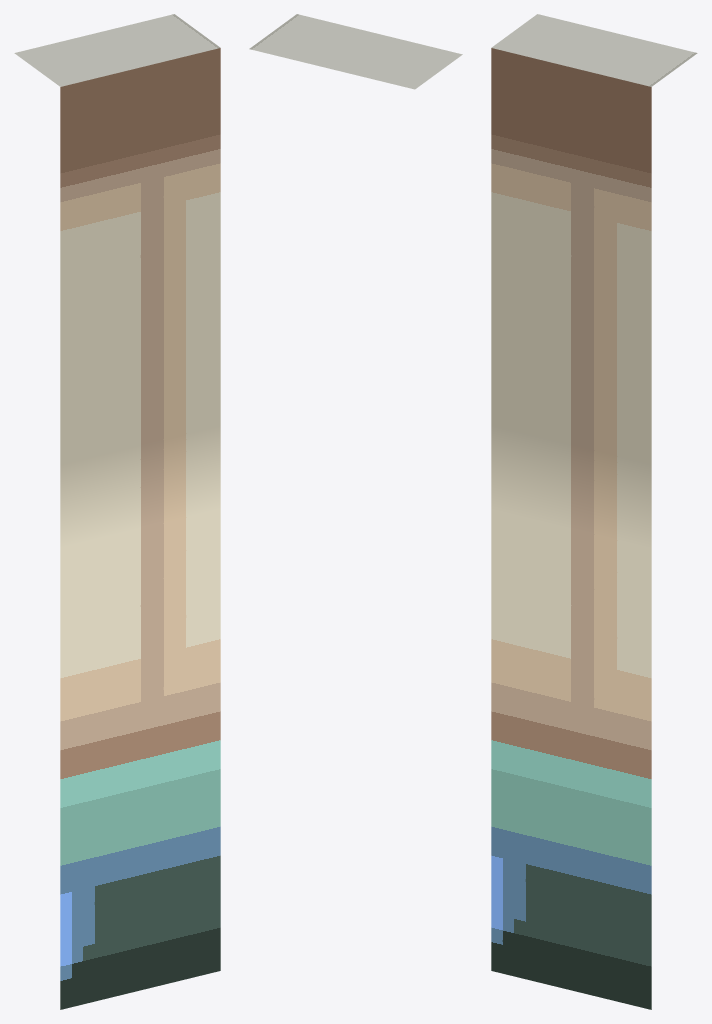
3 renders of one model, left to right at view 1: azimuth 30°, elevation 25°; view 2: azimuth 150°, elevation 25°; view 3: azimuth 330°, elevation 25°, orthographic. The views are drawn at different scales.
Bounding box in the file's own units: 1 × 5.5 × 0.5.
Materials: 2 (2 with a texture image).
